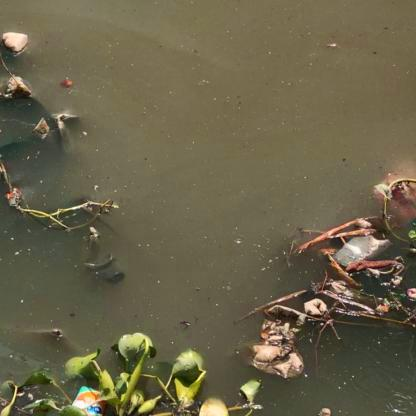Trash: (247, 323, 305, 382), (70, 379, 110, 415), (303, 300, 332, 316)
